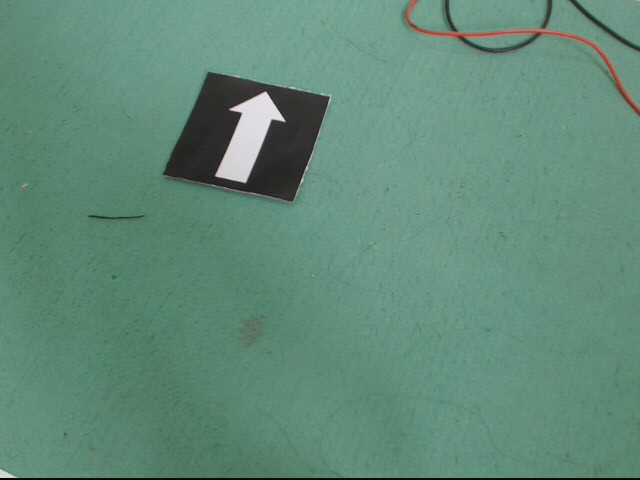straight: (163, 68, 331, 205)
